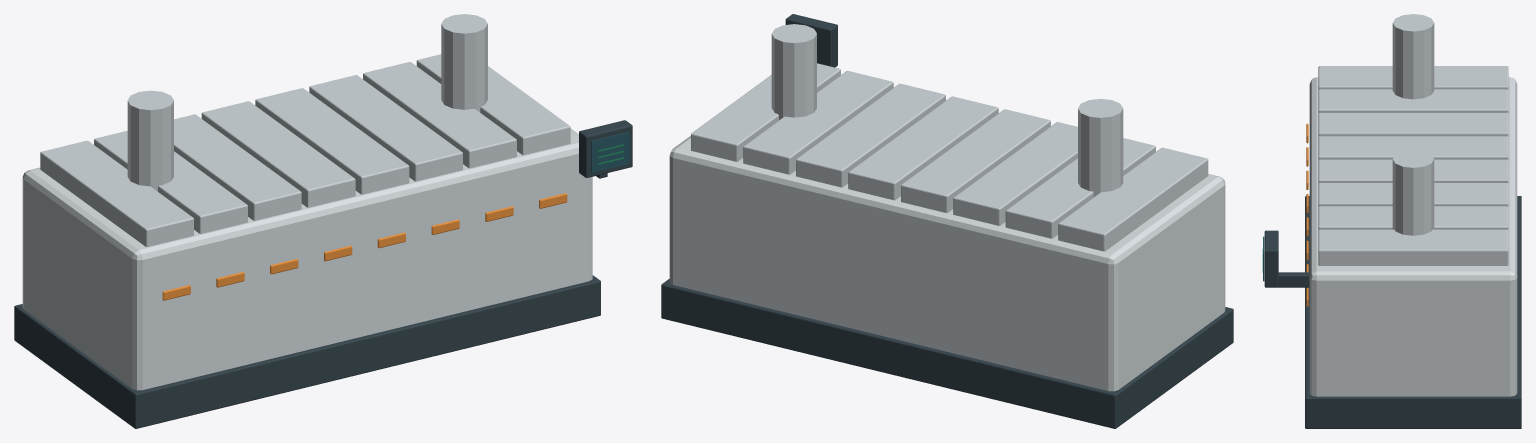
File: station-5.glb
3 renders of one model, left to right at view 1: azimuth 30°, elevation 25°; view 2: azimuth 150°, elevation 25°; view 3: azimuth 270°, elevation 25°, orthographic. The views are drawn at different scales.
Visible parts, largest first — view 1: Machine chassis; view 2: Machine chassis; view 3: Machine chassis.
Boxes of the visible parts, <box> form: Machine chassis: <box>14,14,632,428</box>; Machine chassis: <box>661,14,1233,428</box>; Machine chassis: <box>1262,14,1521,428</box>.
Size of the model in its own units: 4.24 by 2.3 by 2.25.
